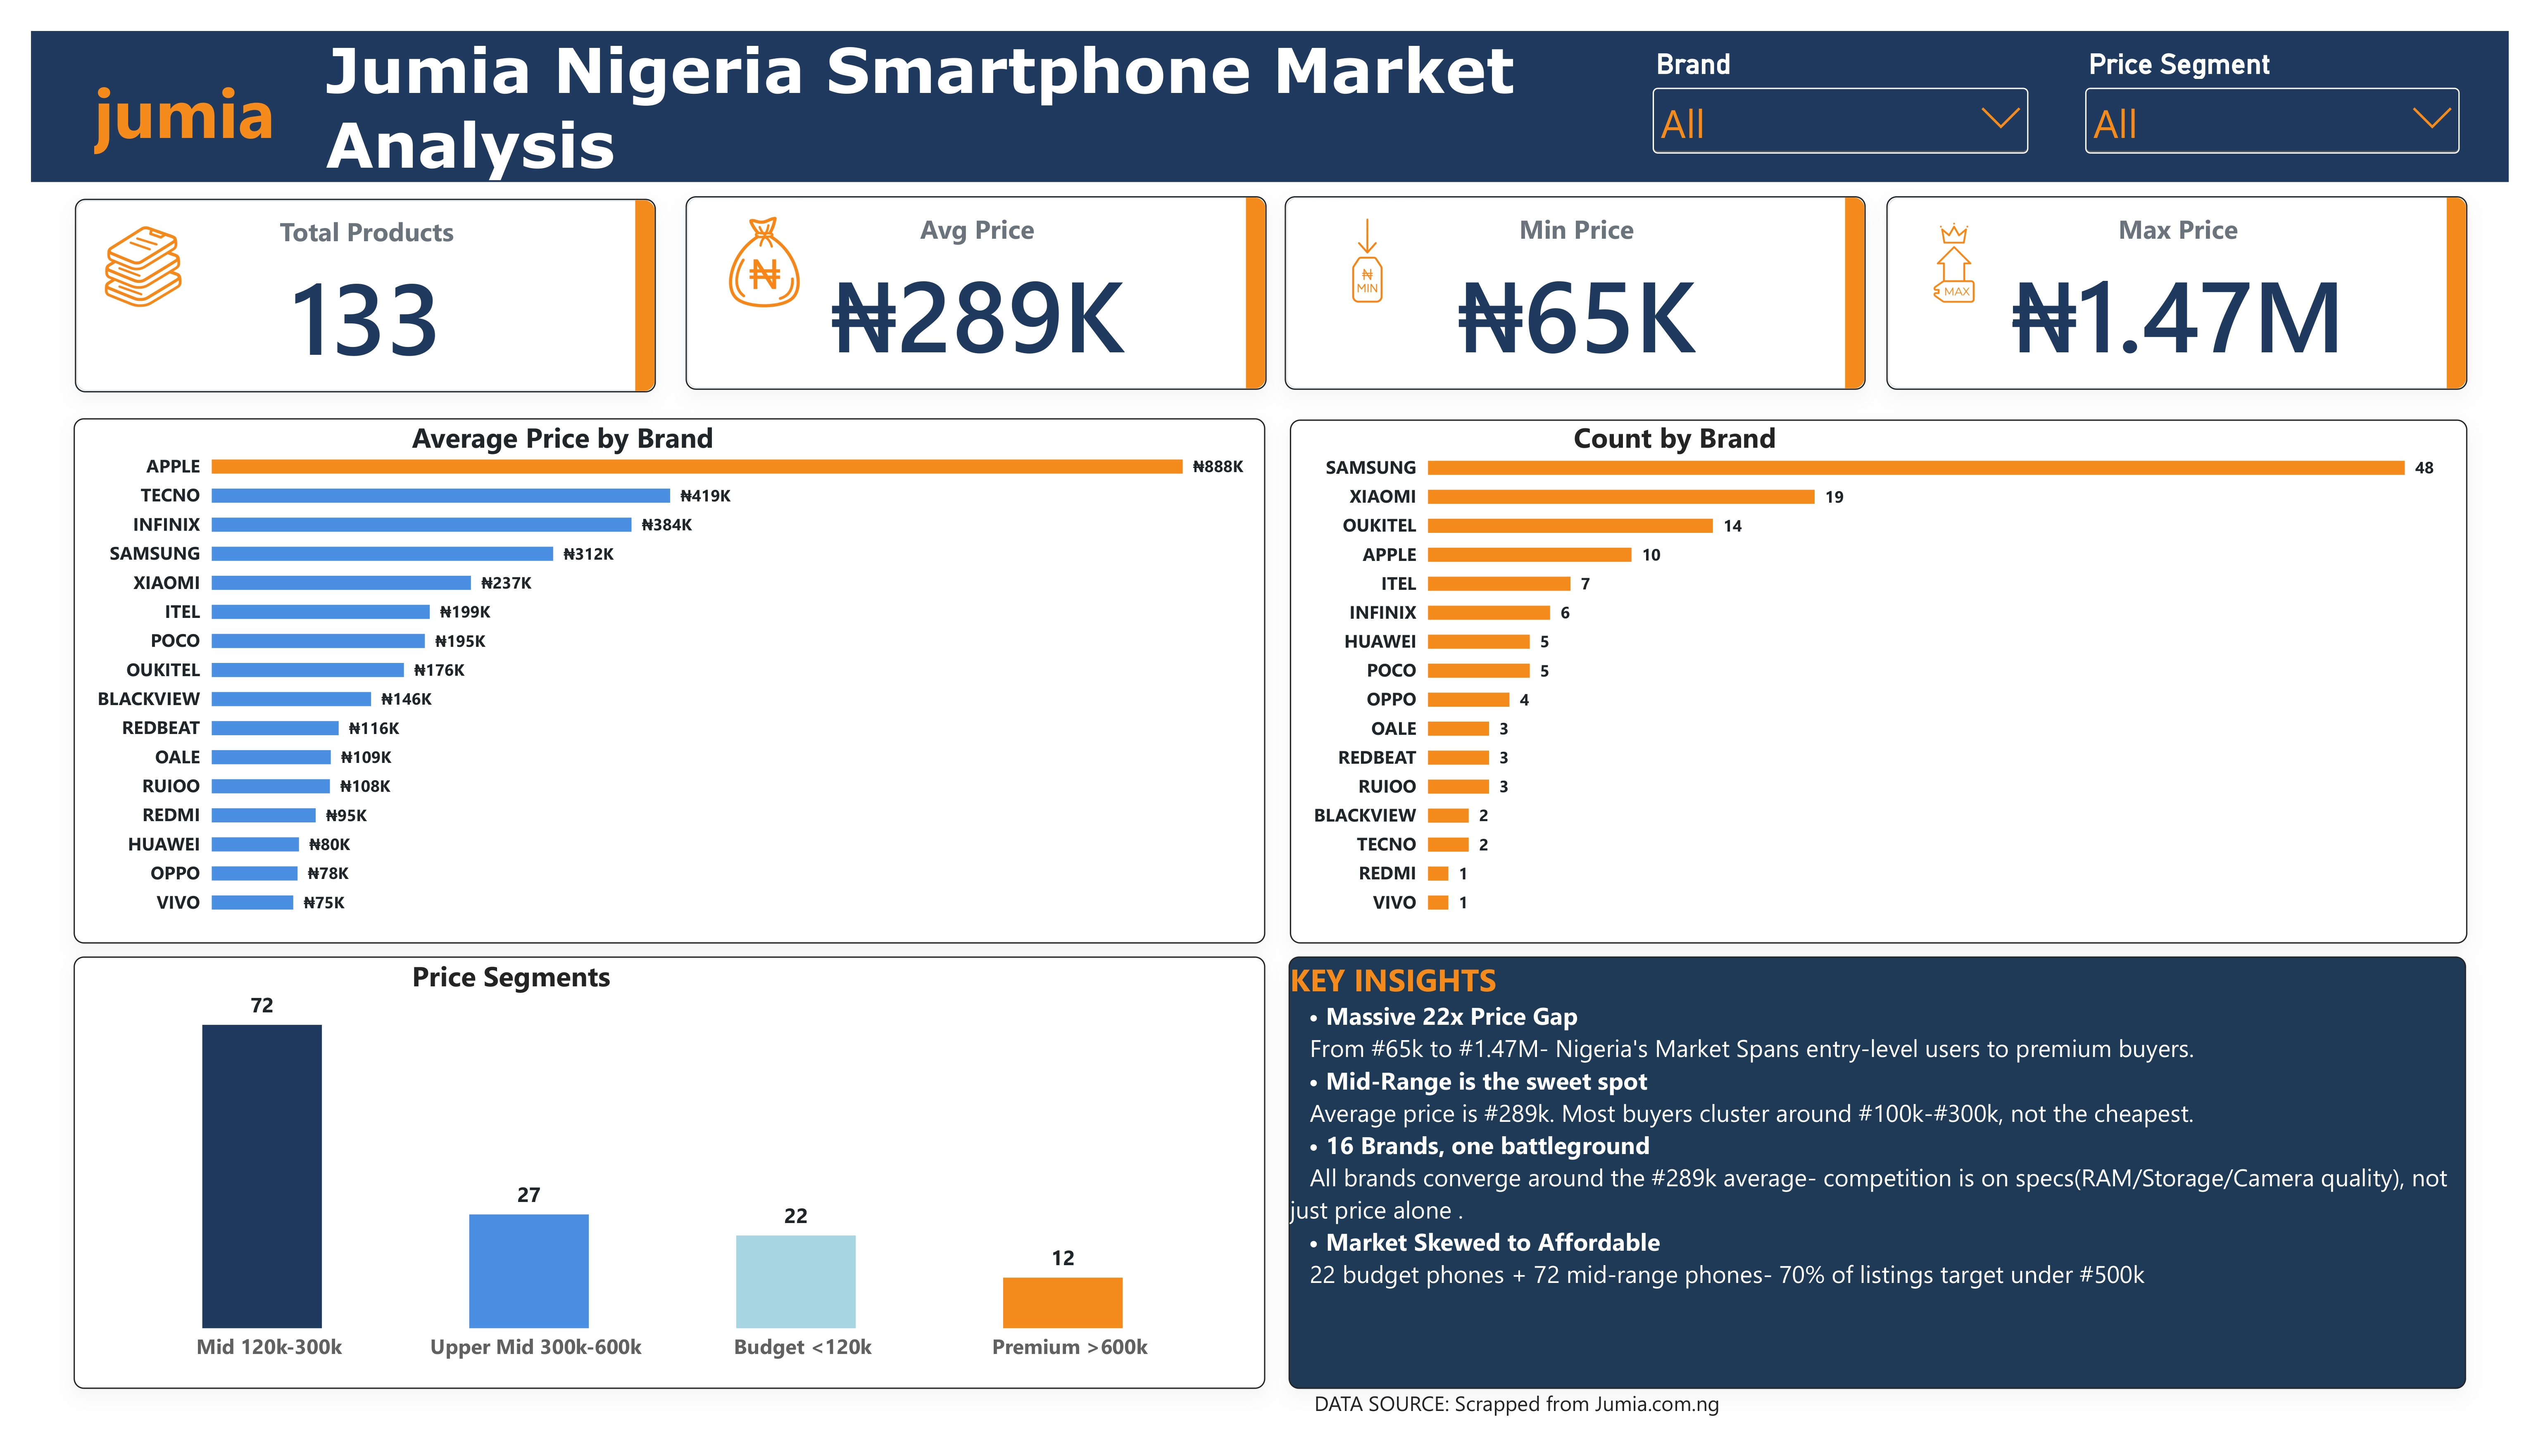

The page's visual inventory and layout, read from the dashboard file:
{"tool":"powerbi","page":{"name":"Jumia Analysis","canvas":[1920,1080],"ordinal":0},"visuals":[{"type":"textbox","box":[0,0,1919.3,117.1],"z":0},{"type":"cardVisual","fields":{"Data":["Jumia Smartphones.Total Products"]},"box":[34.4,130.2,450,150],"z":1000},{"type":"textbox","box":[49.5,24.7,201.2,219.3],"z":2000},{"type":"cardVisual","fields":{"Data":["Jumia Smartphones.Avg Price"]},"box":[506.9,128.3,450,150],"z":3000},{"type":"textbox","box":[227.5,0,972.8,117.1],"z":4000},{"type":"cardVisual","fields":{"Data":["Jumia Smartphones.Min Price"]},"box":[971.1,128.3,450,150],"z":5000},{"type":"cardVisual","fields":{"Data":["Jumia Smartphones.Max Price"]},"box":[1437.2,128.3,450,150],"z":6000},{"type":"clusteredBarChart","fields":{"Category":["Jumia Smartphones.brand"],"Y":["Jumia Smartphones.Avg Price"]},"box":[33,300.1,923.4,407.3],"z":7000},{"type":"barChart","fields":{"Category":["Jumia Smartphones.brand"],"Y":["Jumia Smartphones.Total Products"]},"box":[974.9,300.8,911.7,406.7],"z":8000},{"type":"columnChart","fields":{"Category":["Jumia Smartphones.Price Segment"],"Y":["Jumia Smartphones.Total Products"]},"box":[33,717.3,923.4,334.7],"z":9000},{"type":"textbox","box":[974.5,717.3,911.8,334.7],"z":10000},{"type":"textbox","box":[295.1,300.1,420.5,29.7],"z":11000},{"type":"textbox","box":[1195.4,300.1,300.1,29.7],"z":12000},{"type":"textbox","box":[295.1,717.3,300.1,28],"z":13000},{"type":"textbox","box":[994.3,1052,351.2,28],"z":14000},{"type":"slicer","fields":{"Values":["Jumia Smartphones.brand"]},"box":[1251.5,13.2,300.1,103.9],"z":14001},{"type":"slicer","fields":{"Values":["Jumia Smartphones.Price Segment"]},"box":[1586.2,13.2,300.1,103.9],"z":14002},{"type":"image","box":[36.3,135.2,100.6,92.3],"z":14003},{"type":"image","box":[517.7,130.3,98.9,97.3],"z":14004},{"type":"image","box":[982.7,131.9,103.9,92.3],"z":14005},{"type":"image","box":[1444.4,130.3,90.7,98.9],"z":14006}]}

Visuals, with their boxes in screenshot pixels (x1, y1, x2, y2):
textbox: box=[7, 20, 2512, 173]
cardVisual - Jumia Smartphones.Total Products: box=[52, 190, 639, 385]
textbox: box=[71, 52, 334, 338]
cardVisual - Jumia Smartphones.Avg Price: box=[668, 187, 1256, 383]
textbox: box=[304, 20, 1573, 173]
cardVisual - Jumia Smartphones.Min Price: box=[1274, 187, 1861, 383]
cardVisual - Jumia Smartphones.Max Price: box=[1882, 187, 2470, 383]
clusteredBarChart - Jumia Smartphones.brand x Jumia Smartphones.Avg Price: box=[50, 411, 1255, 943]
barChart - Jumia Smartphones.brand x Jumia Smartphones.Total Products: box=[1279, 412, 2469, 943]
columnChart - Jumia Smartphones.Price Segment x Jumia Smartphones.Total Products: box=[50, 956, 1255, 1392]
textbox: box=[1278, 956, 2469, 1392]
textbox: box=[392, 411, 940, 450]
textbox: box=[1567, 411, 1958, 450]
textbox: box=[392, 956, 783, 992]
textbox: box=[1304, 1392, 1763, 1429]
slicer - Jumia Smartphones.brand: box=[1640, 37, 2032, 173]
slicer - Jumia Smartphones.Price Segment: box=[2077, 37, 2469, 173]
image: box=[54, 196, 185, 317]
image: box=[682, 190, 811, 317]
image: box=[1289, 192, 1425, 312]
image: box=[1892, 190, 2010, 319]
